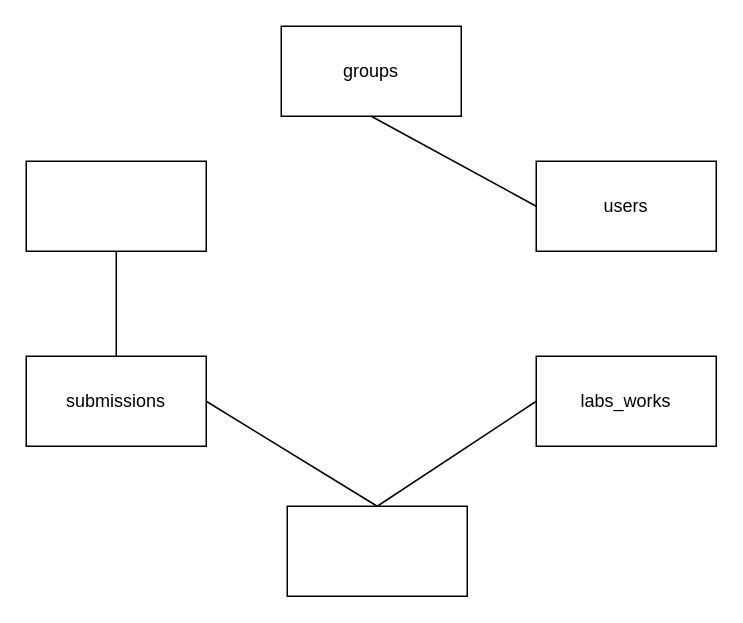
Image size: 743x623. Some labels were removed from this diagram. Each missing label, with the centre of its shape:
"assigment" goes at (376,550).
"grades" goes at (115,205).
